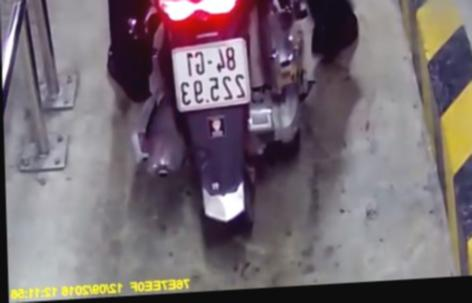License_Plate: (169, 34, 256, 114)
